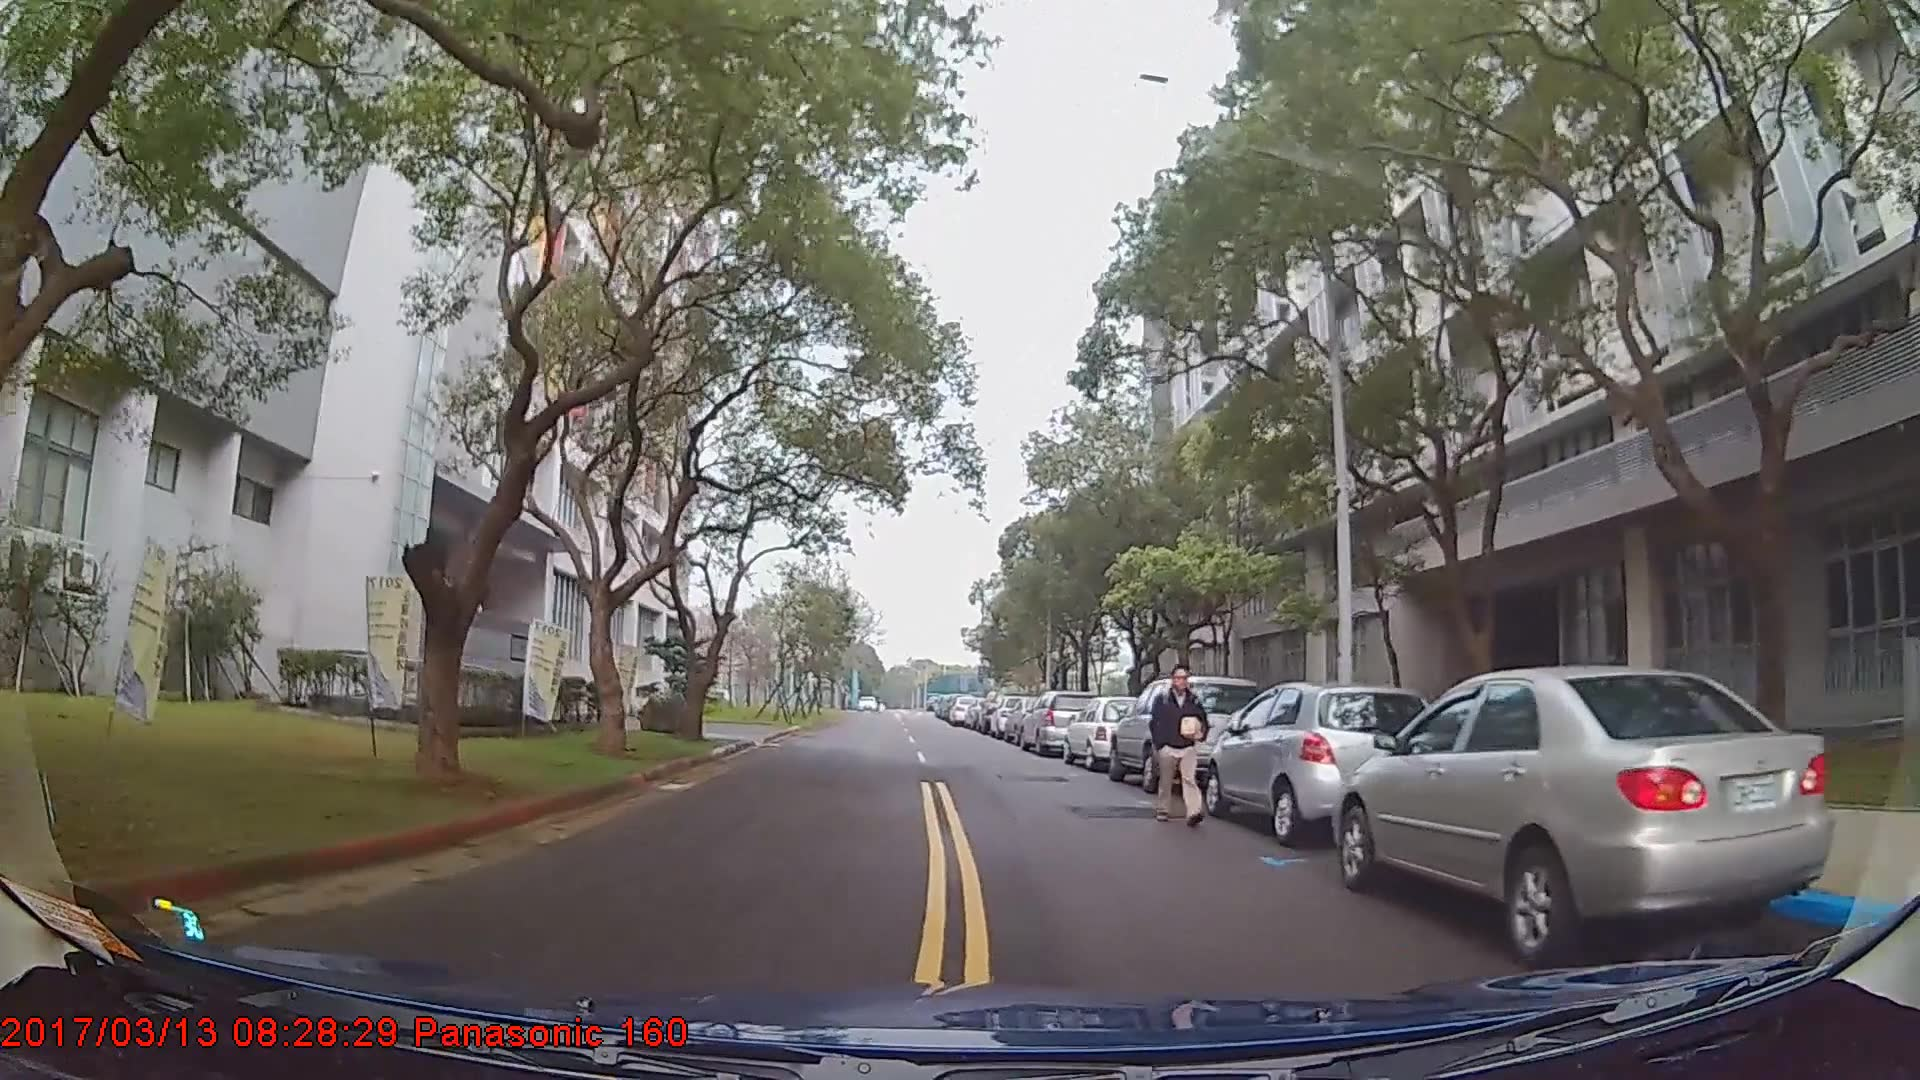pedestrian: (1153, 662, 1216, 825)
vehicle: (1331, 663, 1834, 963), (1203, 677, 1434, 843), (1109, 674, 1266, 791), (1062, 693, 1150, 772), (1019, 687, 1103, 753), (946, 693, 980, 725)
